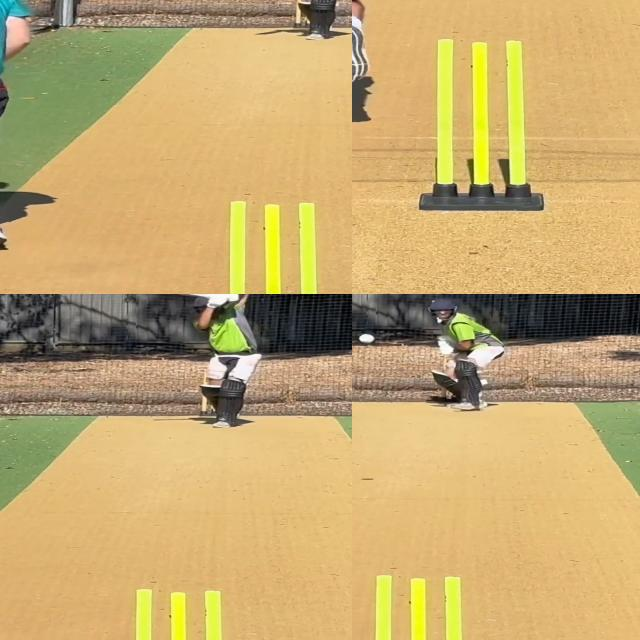Cricket ball: (356, 333, 376, 345)
Stumps: (421, 36, 545, 212), (360, 573, 484, 640)
